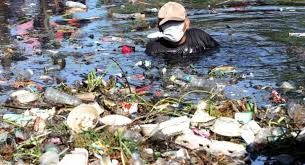garbage: (13, 67, 305, 162), (39, 11, 144, 59)
